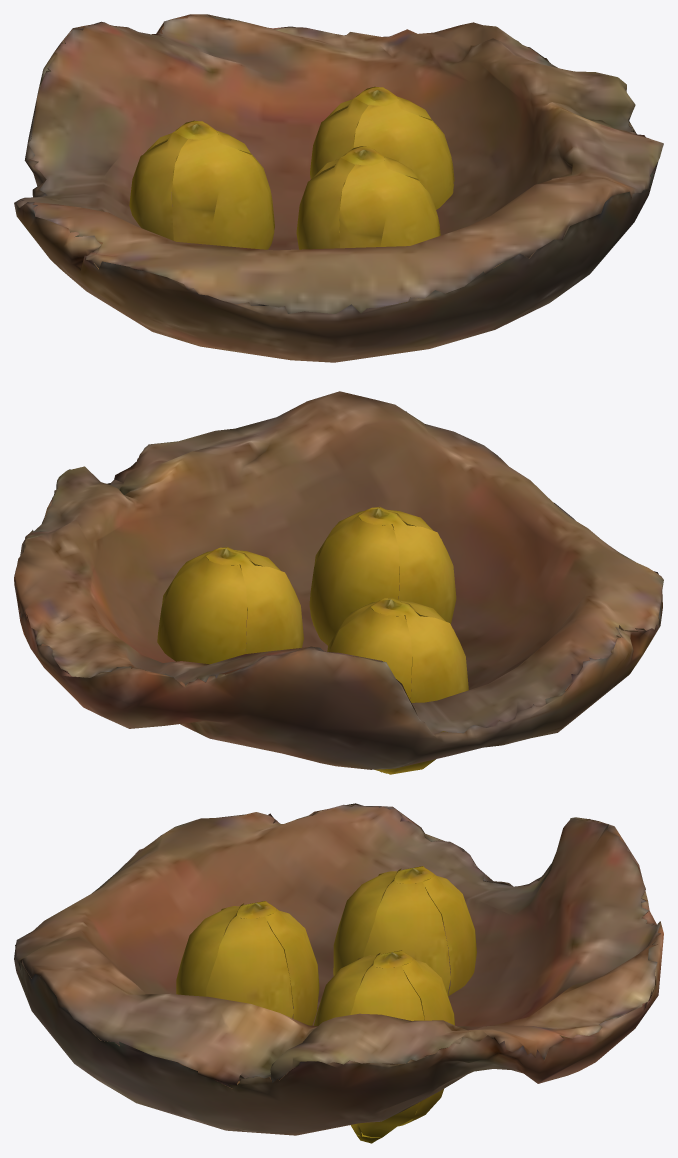
Rendered from fruit-bowl-lightweight-1526d80162.glb.
3 renders of one model, top to bottom at view 1: azimuth 30°, elevation 25°; view 2: azimuth 150°, elevation 25°; view 3: azimuth 270°, elevation 25°, orthographic. The views are drawn at different scales.
Visible parts, largest first — view 1: wooden_bowl_01; view 2: wooden_bowl_01; view 3: wooden_bowl_01.
Part boxes in pixels (bbox=[...]): wooden_bowl_01: bbox=[14, 14, 663, 362]; wooden_bowl_01: bbox=[14, 391, 663, 774]; wooden_bowl_01: bbox=[14, 803, 663, 1143].
Size of the model in its own units: 0.3132 by 0.1123 by 0.3097.
2 materials, 2 textured.
